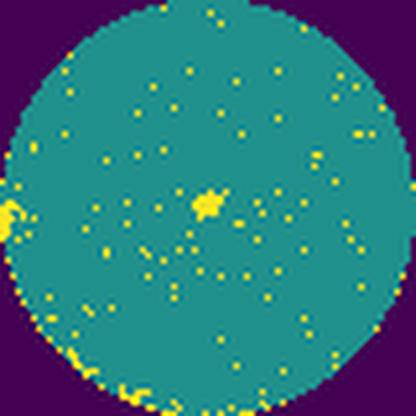Center: (191, 187, 231, 220)
